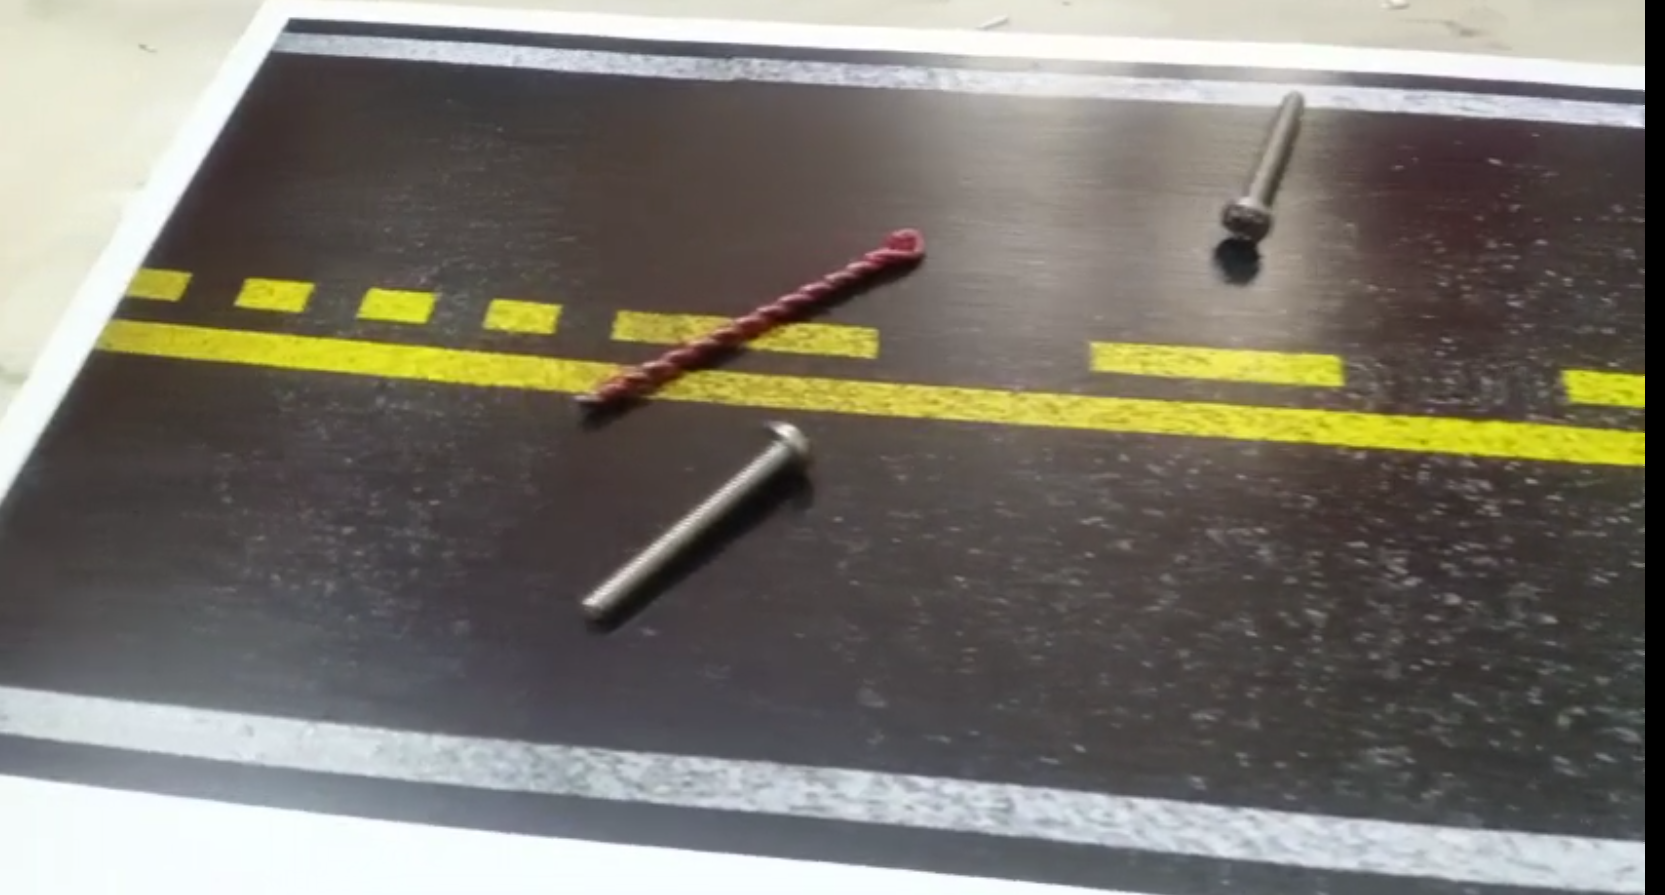metal: (556, 222, 953, 405), (551, 414, 833, 635), (1207, 88, 1315, 260)
